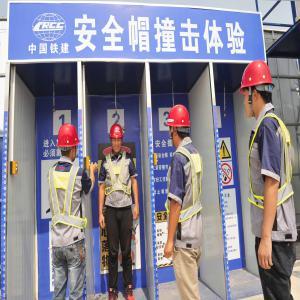red: (239, 60, 276, 122), (166, 105, 192, 150), (56, 124, 80, 164), (109, 124, 126, 155)
